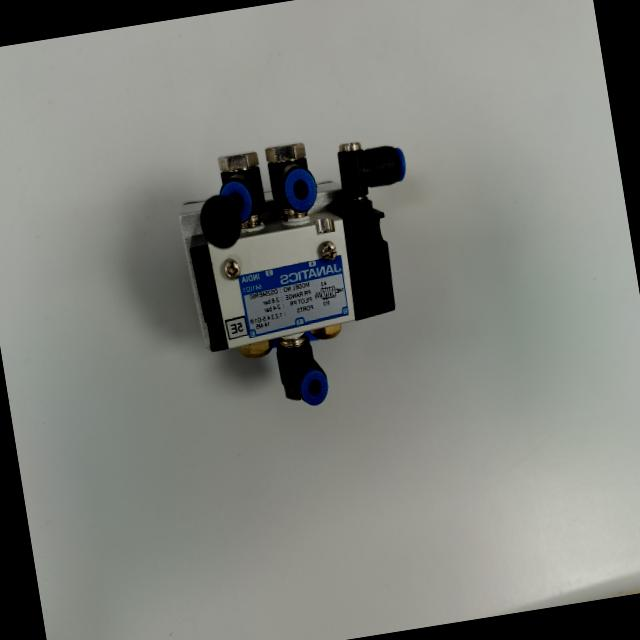5by2 DCV: (157, 103, 452, 434)
